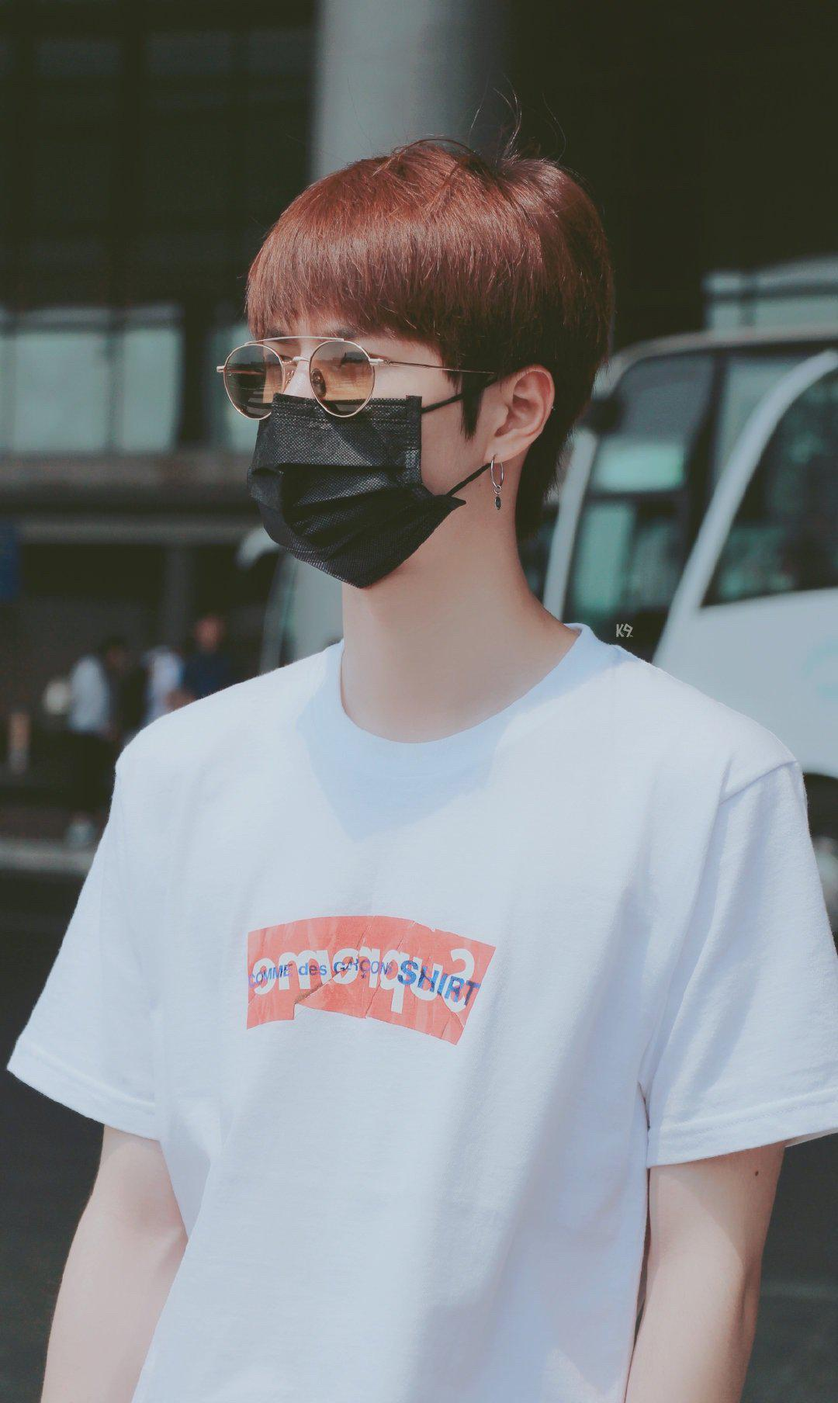OK: (251, 319, 463, 586)
